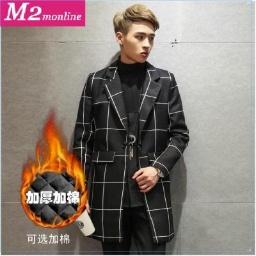face: (113, 4, 157, 64)
